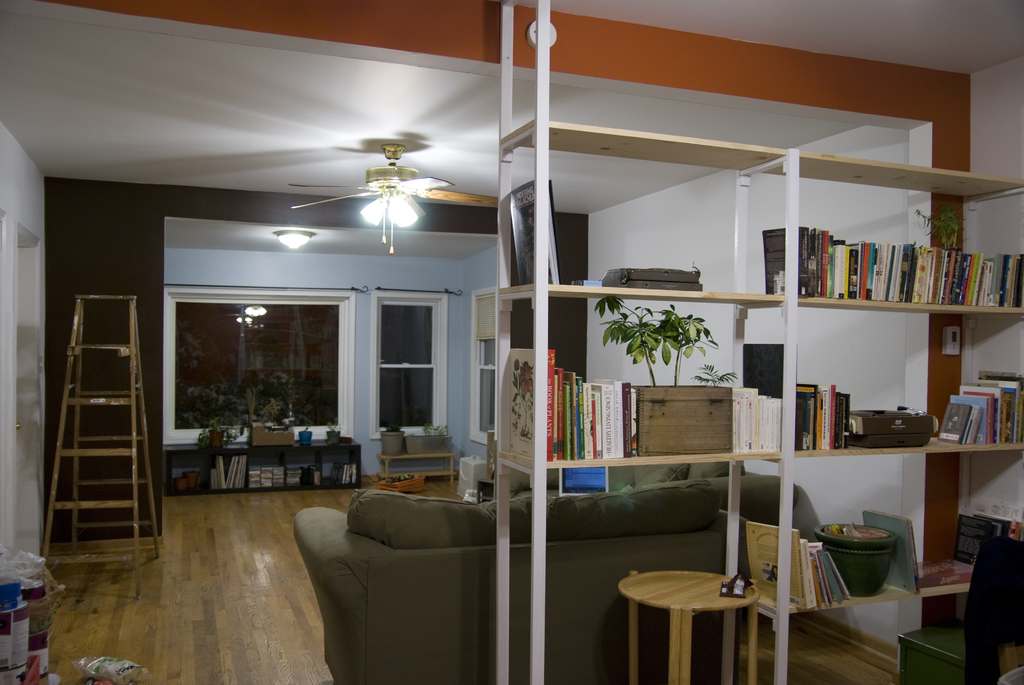Couch: (264, 461, 728, 656)
